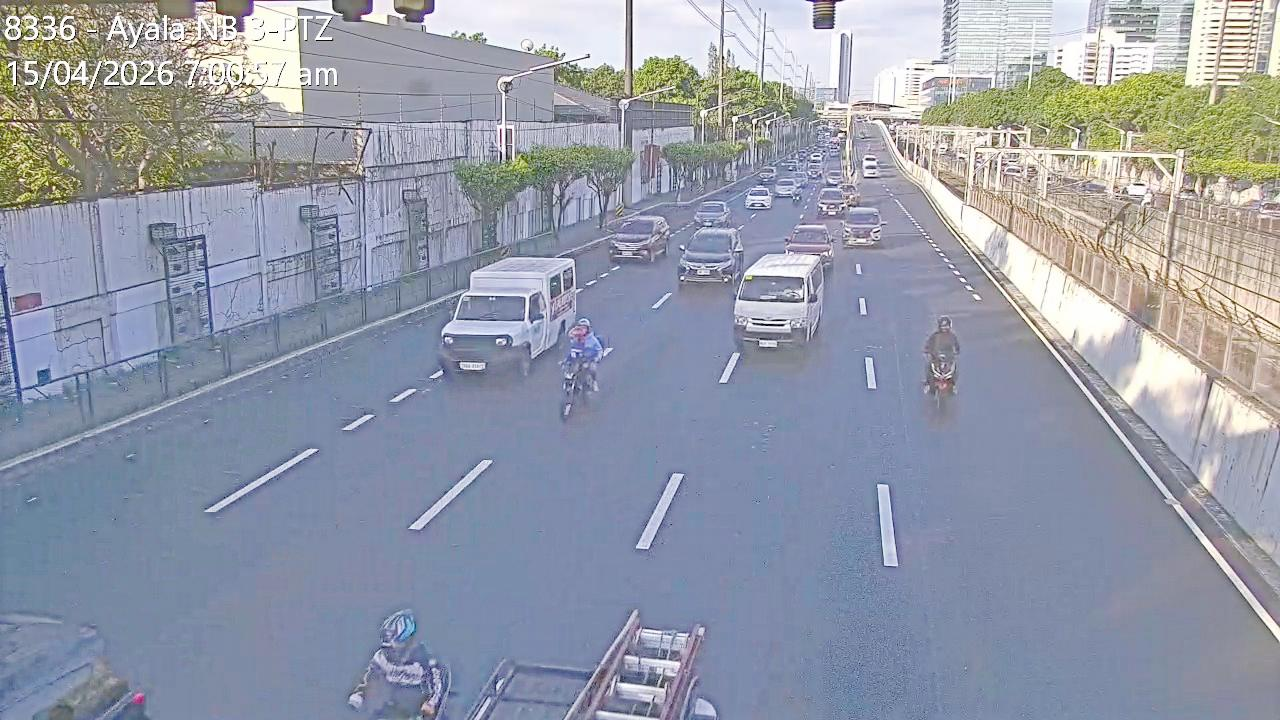Car: (436, 255, 578, 381), (731, 251, 826, 351), (677, 224, 745, 288), (608, 214, 672, 264), (781, 223, 836, 271), (841, 207, 884, 247), (694, 200, 734, 228), (814, 187, 847, 218), (743, 186, 772, 209), (773, 178, 800, 200), (839, 183, 860, 207), (756, 166, 777, 182)
Motor: (336, 610, 452, 720), (925, 311, 965, 397), (558, 345, 600, 421)
Not Accident: (438, 247, 608, 425), (739, 222, 832, 354), (677, 198, 744, 292), (816, 180, 886, 244)
